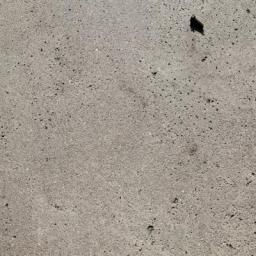FOD: (188, 12, 209, 36)
